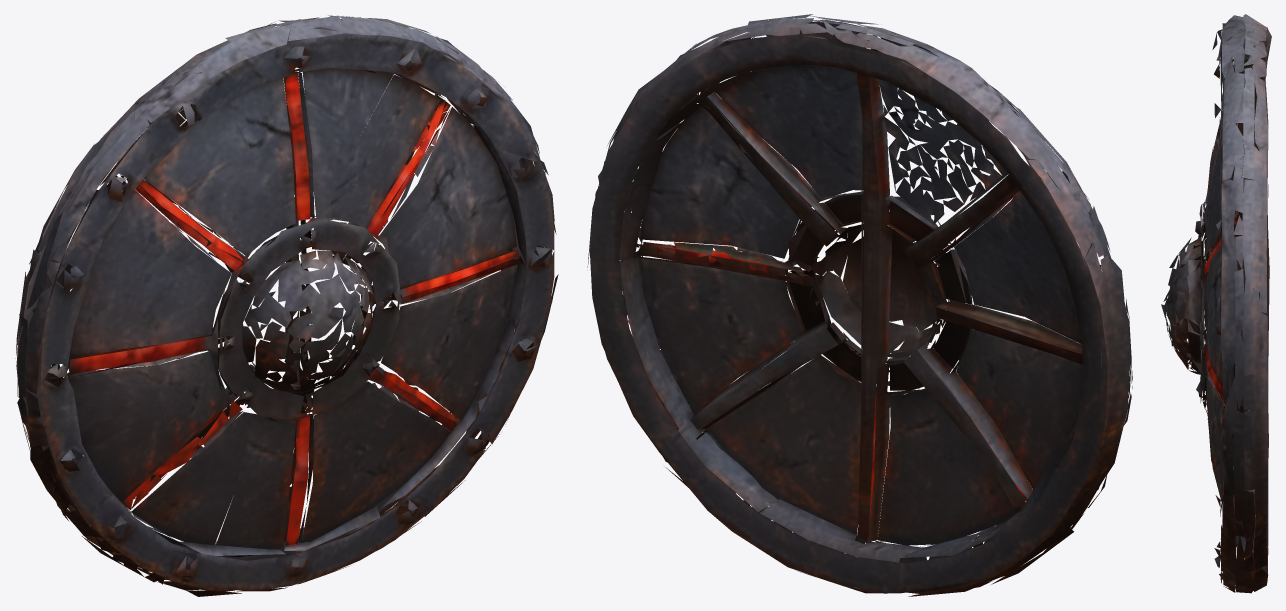
File: buckler-4000-v1.glb
3 views of the same model, side by side, from view 1: azimuth 30°, elevation 25°; view 2: azimuth 150°, elevation 25°; view 3: azimuth 270°, elevation 25° (orthographic). The views are drawn at different scales.
Parts seen in each view (by area): view 1: buckler-4000-v1; view 2: buckler-4000-v1; view 3: buckler-4000-v1.
Boxes of the visible parts, bbox=[...] form: buckler-4000-v1: bbox=[15, 15, 558, 596]; buckler-4000-v1: bbox=[587, 14, 1132, 596]; buckler-4000-v1: bbox=[1161, 14, 1271, 593].
Size of the model in its own units: 1 by 1.01 by 0.1925.
Materials: 1 (1 with a texture image).
